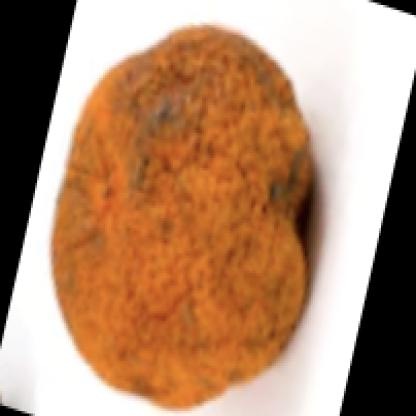rotten: (51, 25, 314, 413)
